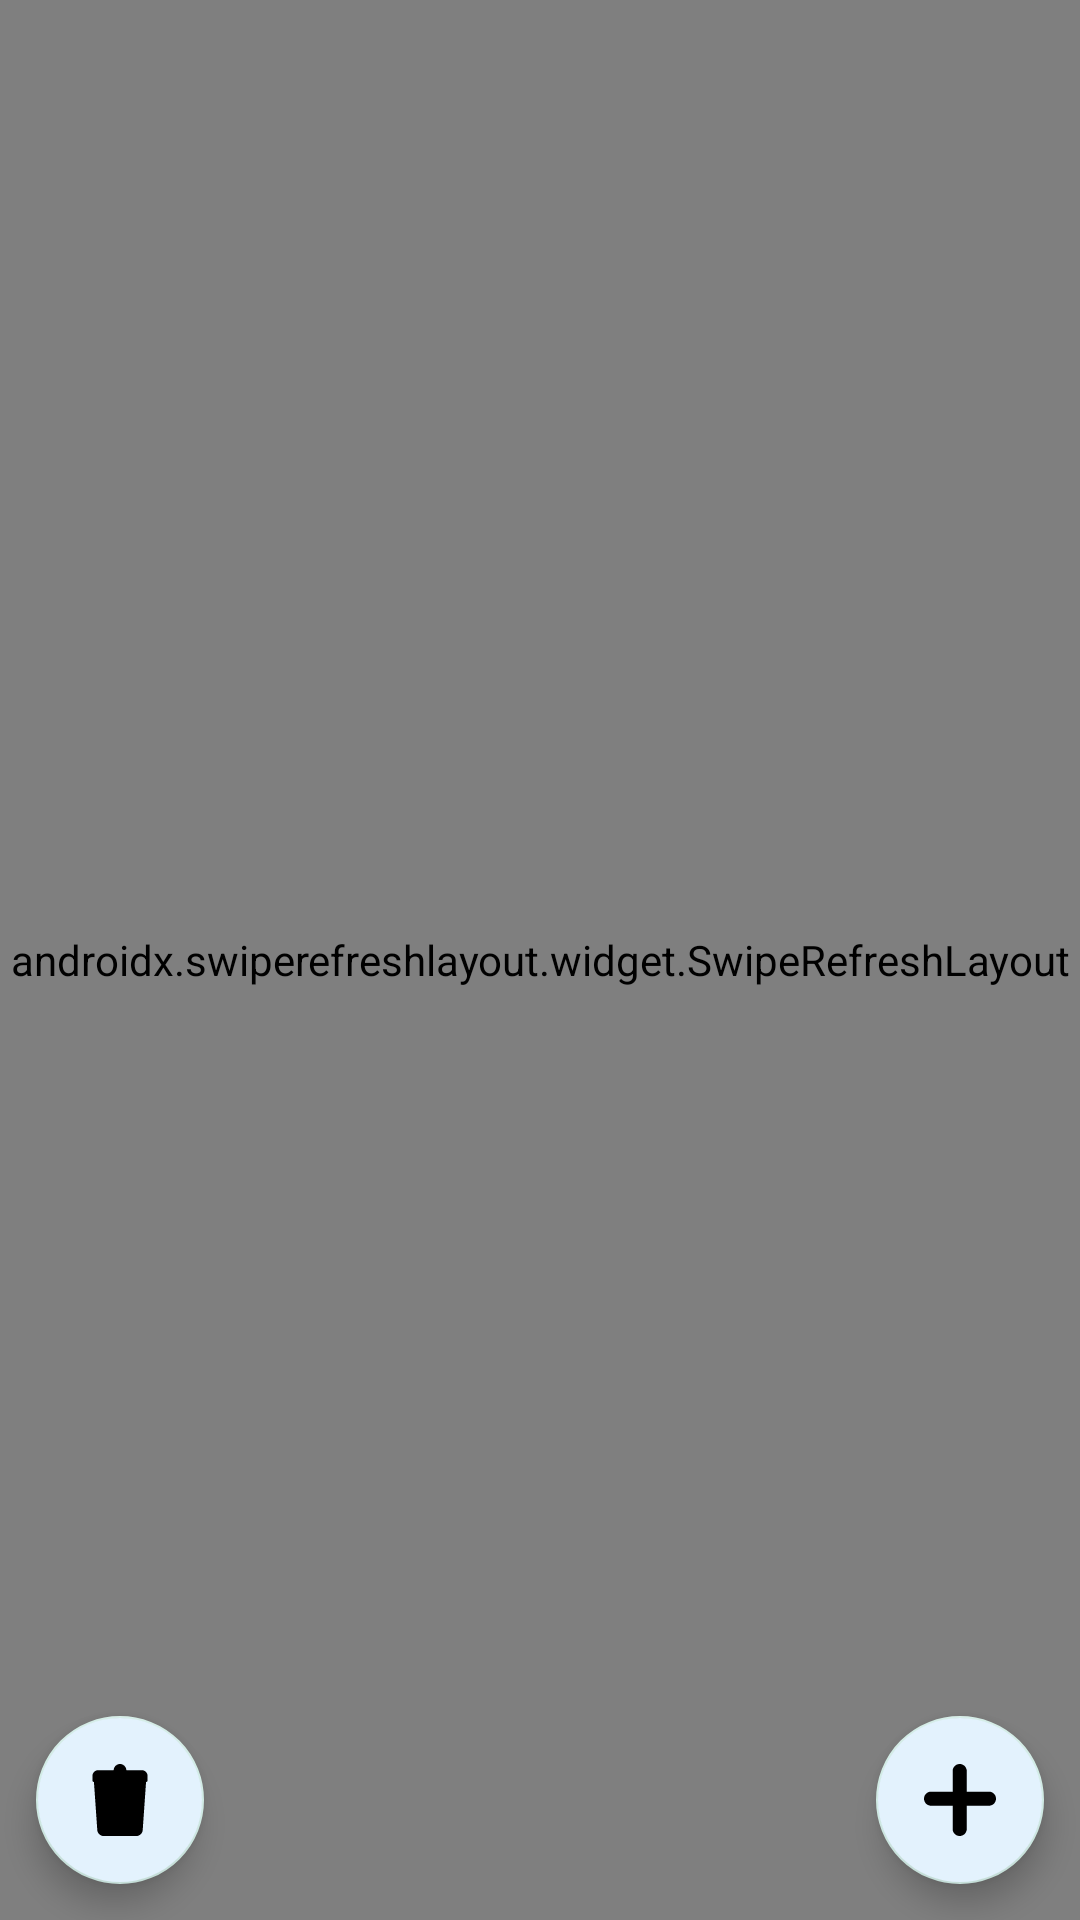

Named icons in this screenshot (1080x1920) and their bounding boxes, (x1, y1, x2, y2):
delete: (36, 1716, 204, 1884)
plus: (876, 1716, 1044, 1884)
